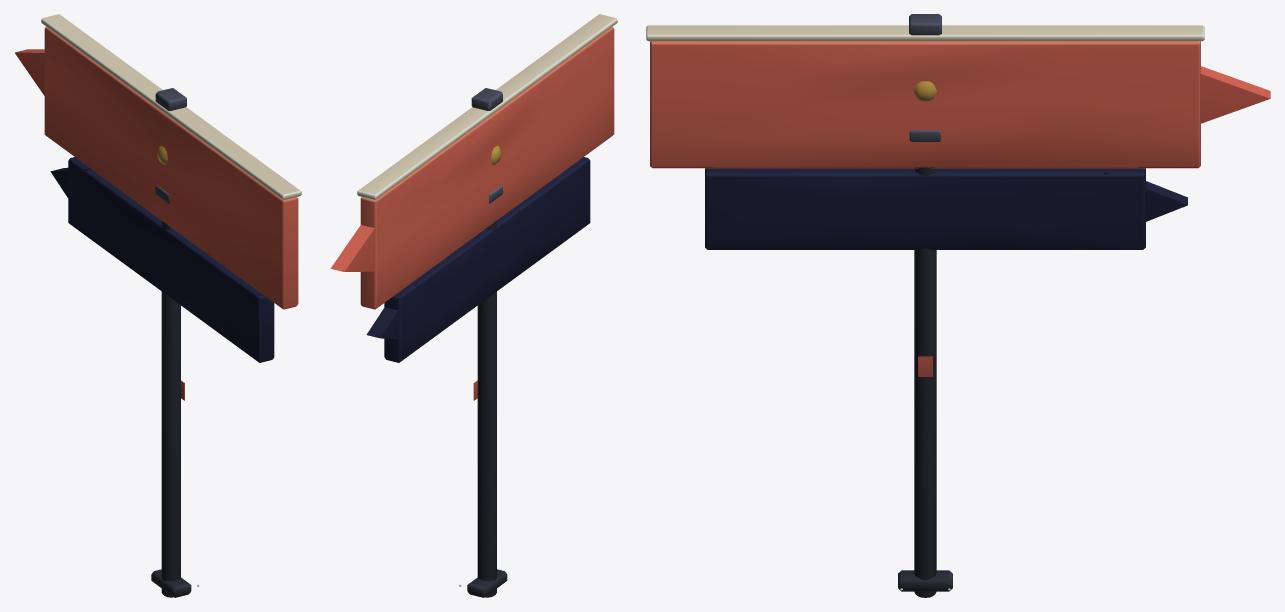
File: SM_City_Signpost.fbx
3 views of the same model, side by side, from view 1: azimuth 30°, elevation 25°; view 2: azimuth 150°, elevation 25°; view 3: azimuth 270°, elevation 25° (orthographic). The views are drawn at different scales.
Visible parts, largest first — view 1: SM_City_Signpost; view 2: SM_City_Signpost; view 3: SM_City_Signpost.
Part boxes in pixels (x1=…): SM_City_Signpost: x1=14, y1=14, x2=301, y2=597; SM_City_Signpost: x1=330, y1=14, x2=617, y2=597; SM_City_Signpost: x1=646, y1=14, x2=1270, y2=597.
Size of the model in its own units: 21.44 by 346 by 340.
